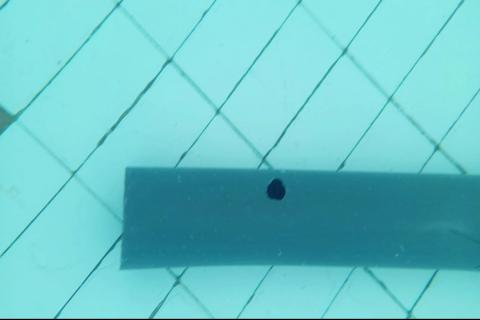kebocoran: (266, 175, 287, 201)
keretakan: (450, 224, 480, 248)
